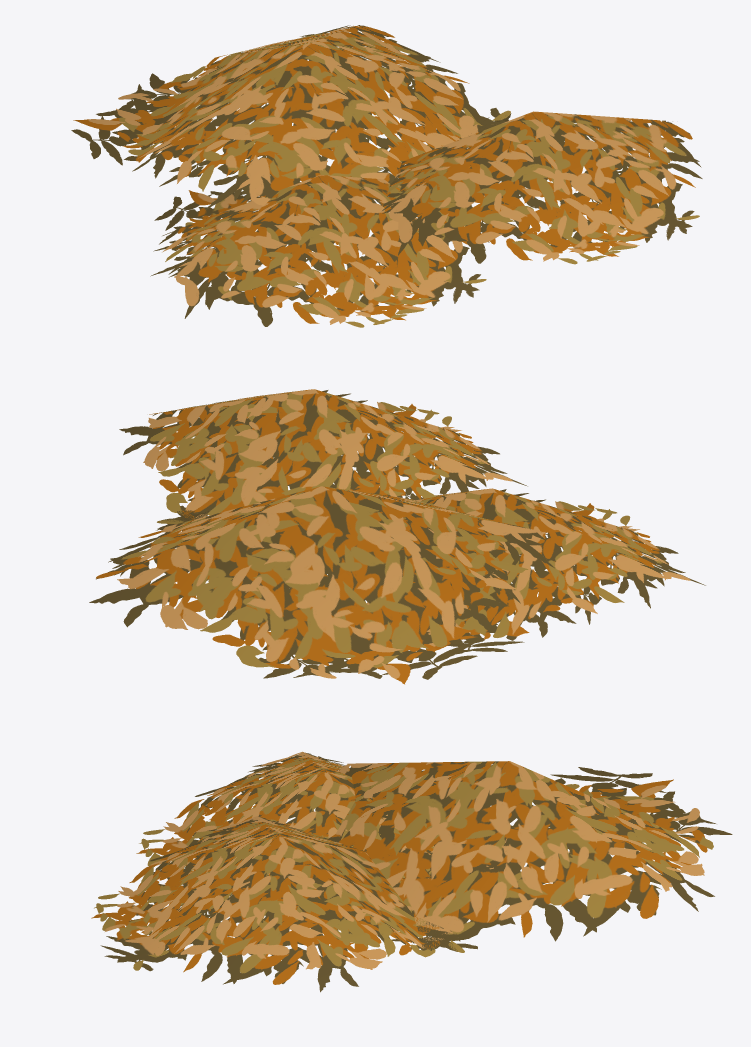
File: orange_bush.fbx
3 views of the same model, one above another, from view 1: azimuth 30°, elevation 25°; view 2: azimuth 150°, elevation 25°; view 3: azimuth 270°, elevation 25° (orthographic). The views are drawn at different scales.
Parts seen in each view (by area): view 1: pPlane118; view 2: pPlane118; view 3: pPlane118.
Part boxes in pixels (x1,y1,x2,y2): pPlane118: (71, 25, 702, 327); pPlane118: (89, 389, 705, 684); pPlane118: (91, 751, 732, 992).
Size of the model in its own units: 1.69 by 0.3247 by 1.59.
